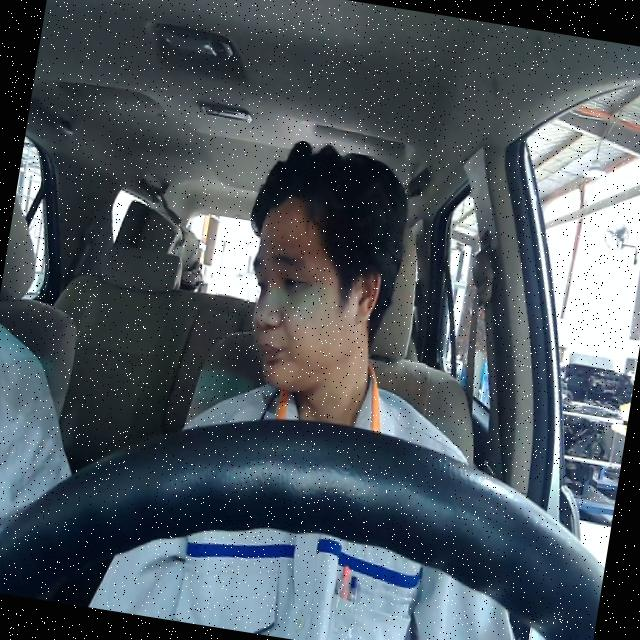seeing_left: (232, 188, 393, 400)
